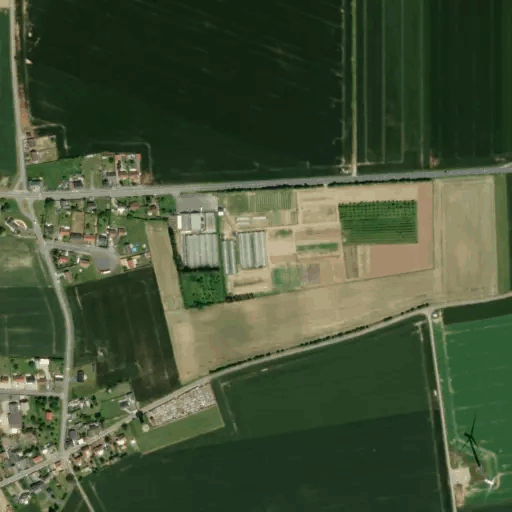wt: (453, 408, 504, 503)
